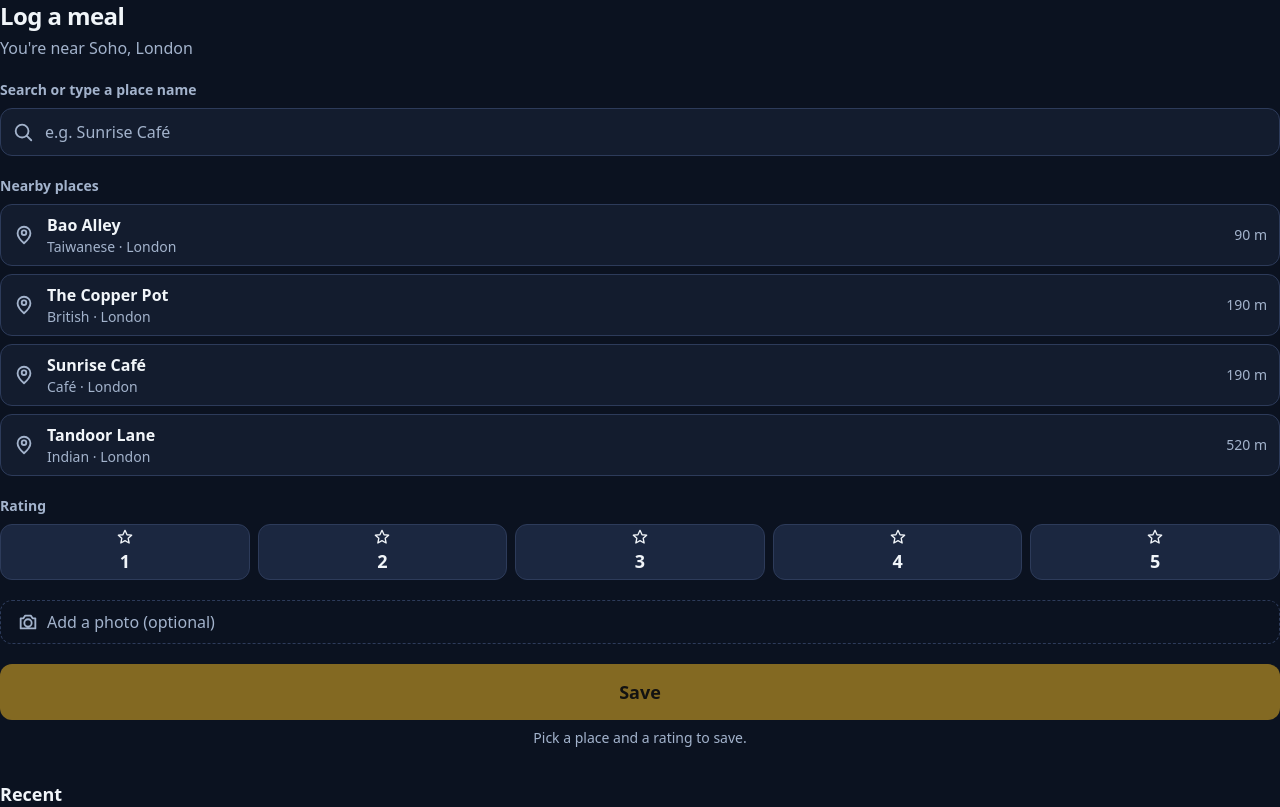
Quick Log › cannot be saved until a place and a rating are chosen
Expected: the button "Save" is disabled, [0,664,1279,720]
What coordinates should you click on to do the following:
click the radio button labelled "Sunrise Café Café · London 190 m"
I would click on:
 (640, 375)
Its box is [0,344,1279,406].
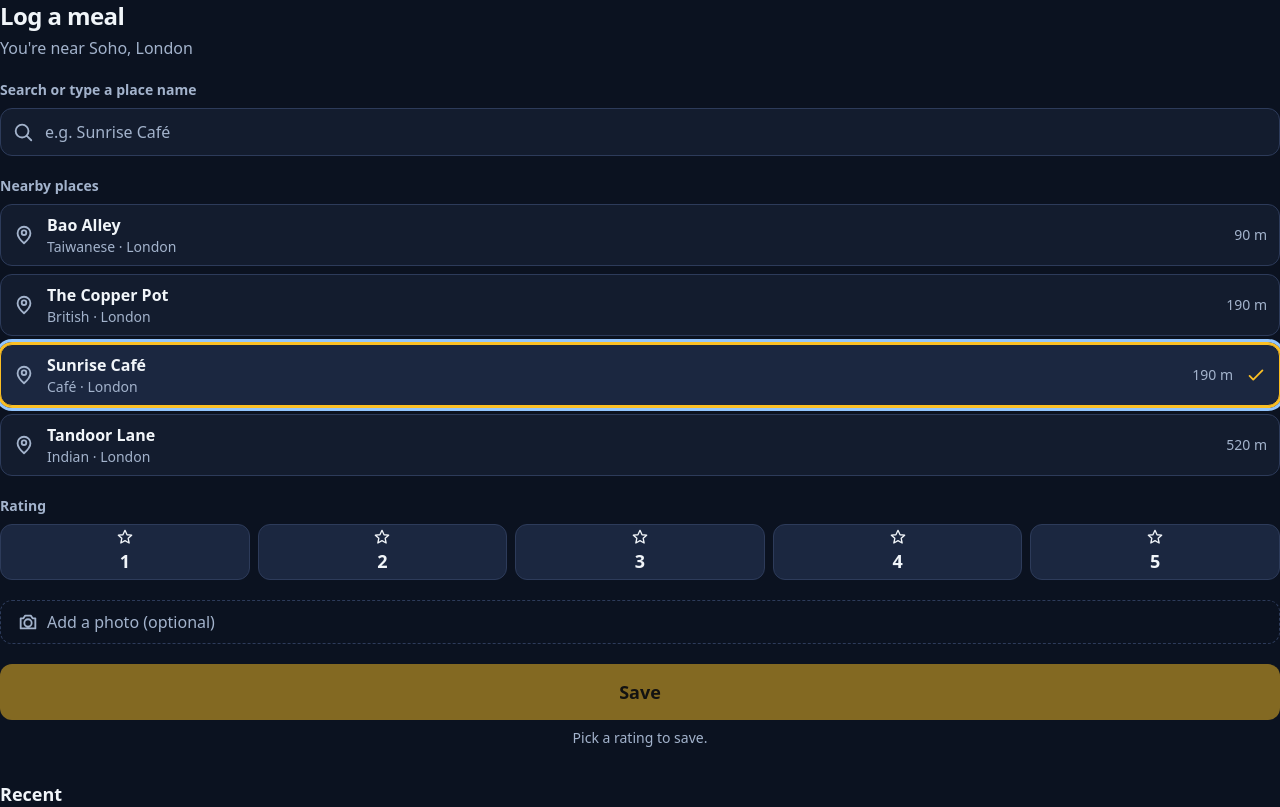
Expected: the button "Save" is disabled, [0,664,1279,720]
What coordinates should you click on to do the following:
click the radio button named "4 stars"
I would click on:
 (898, 552)
Its box is [773,524,1022,580].
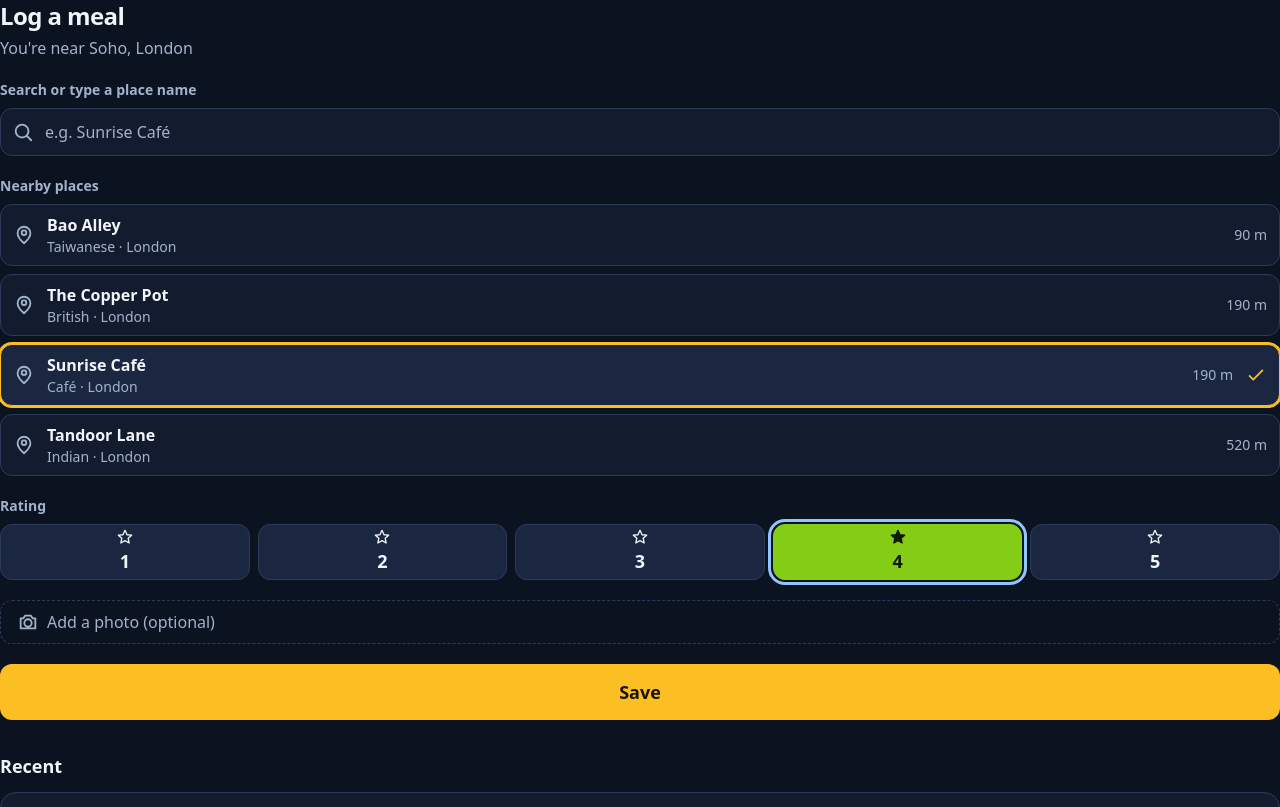
Expected: the button "Save" is enabled, [0,664,1279,720]
